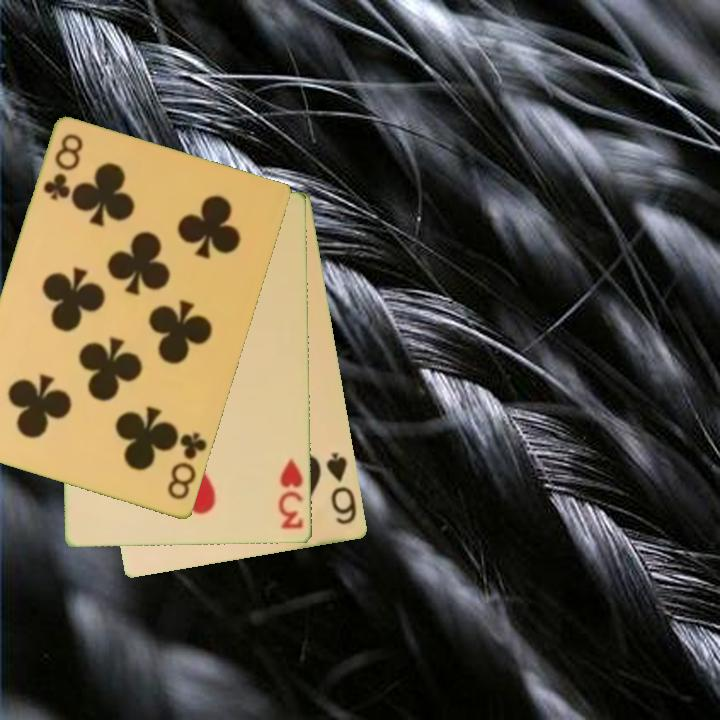3h: (275, 455, 307, 532)
6s: (323, 449, 360, 528)
8c: (40, 130, 87, 204), (164, 429, 210, 504)
